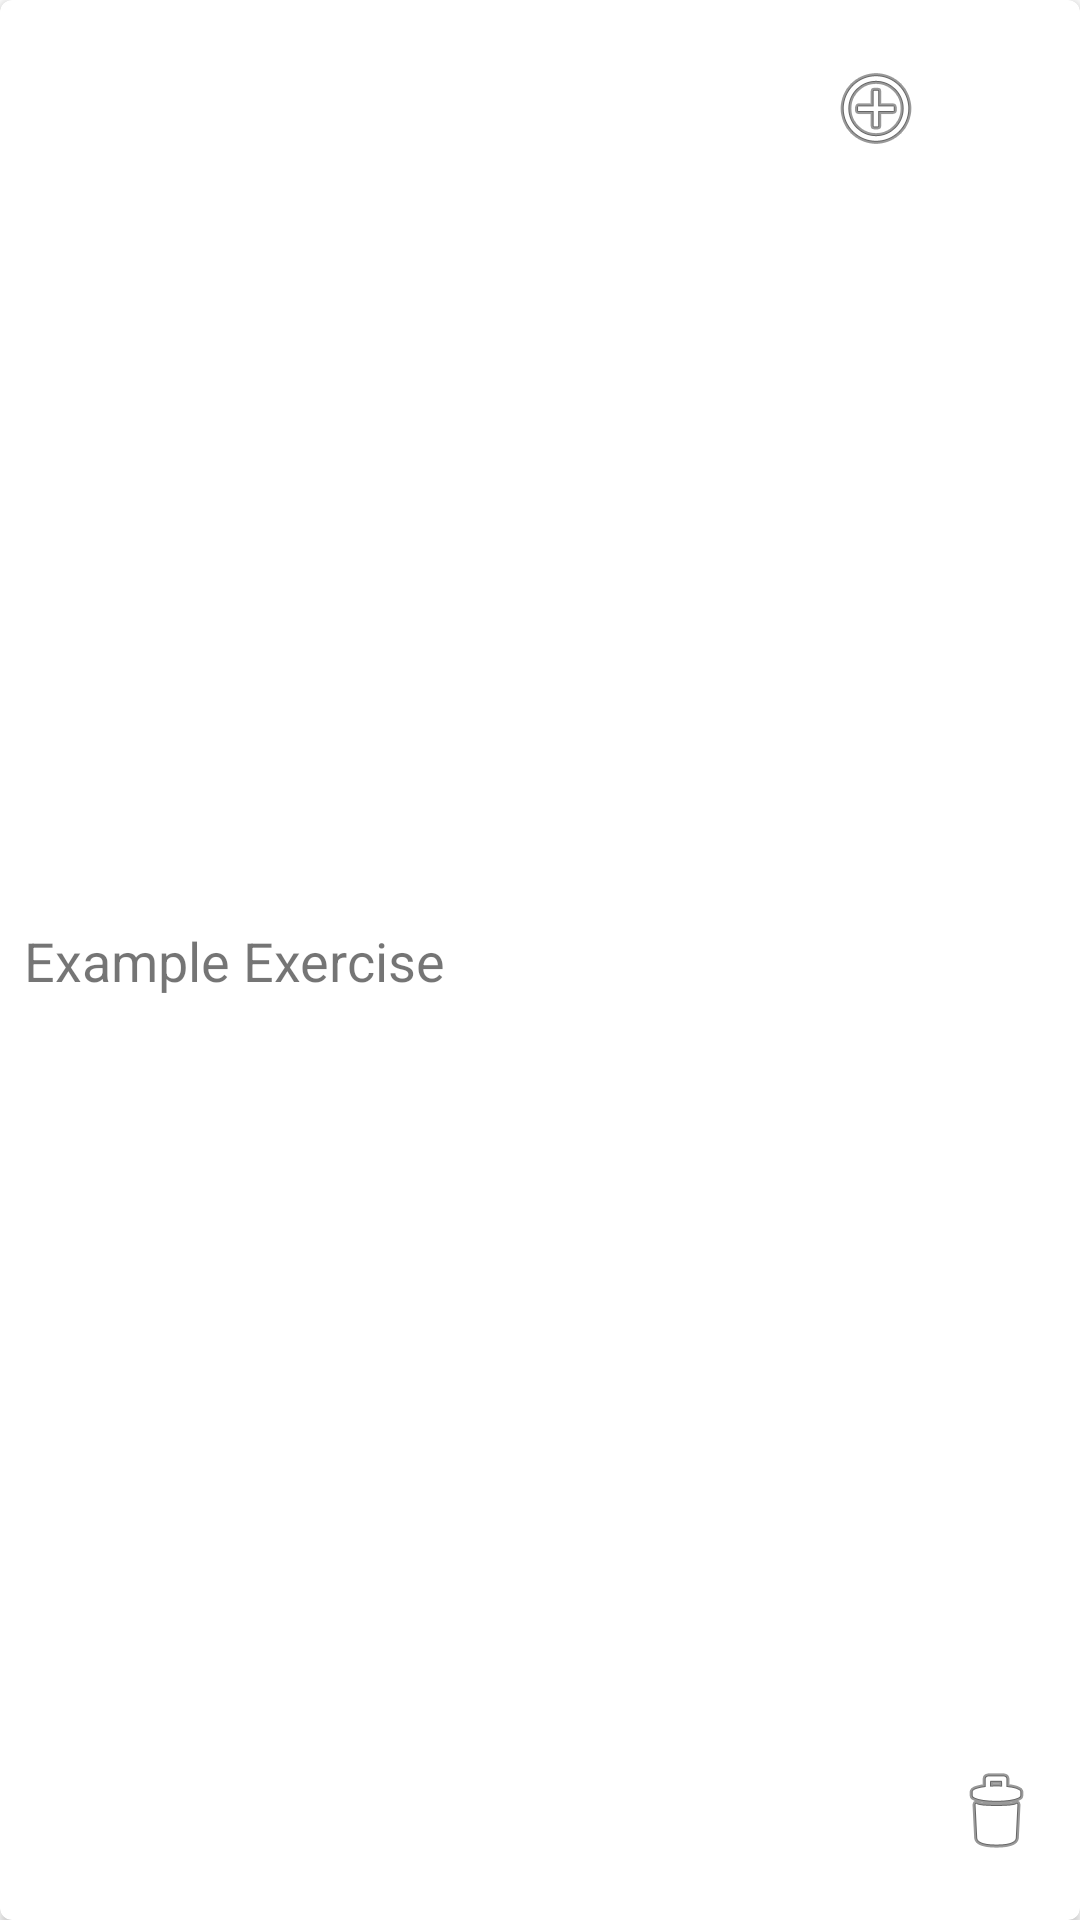

Locate icon controls on the screen. Image size 1080w x 1920h, boxes as Rect(x1, y1, x2, y2).
Add product sign: Rect(840, 73, 912, 144)
Delete product sign: Rect(969, 1773, 1024, 1848)
